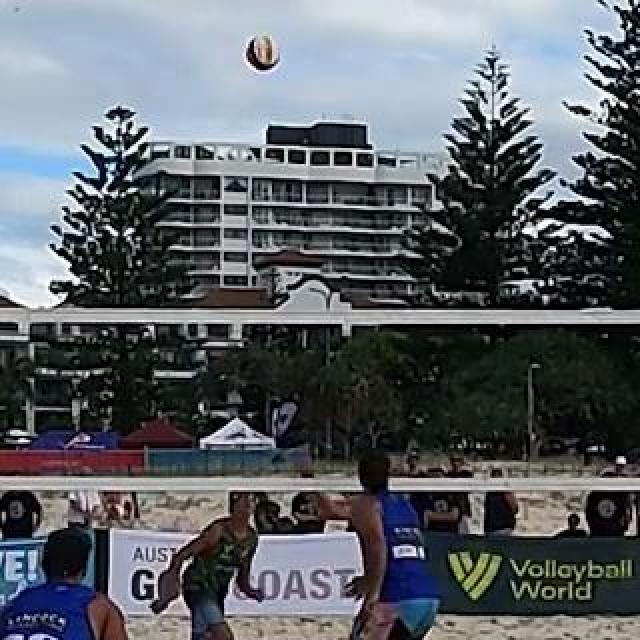volleyball: (244, 35, 282, 71)
